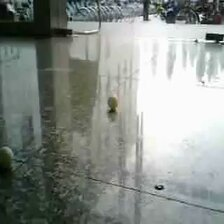w: (1, 145, 14, 167), (107, 95, 120, 109)
